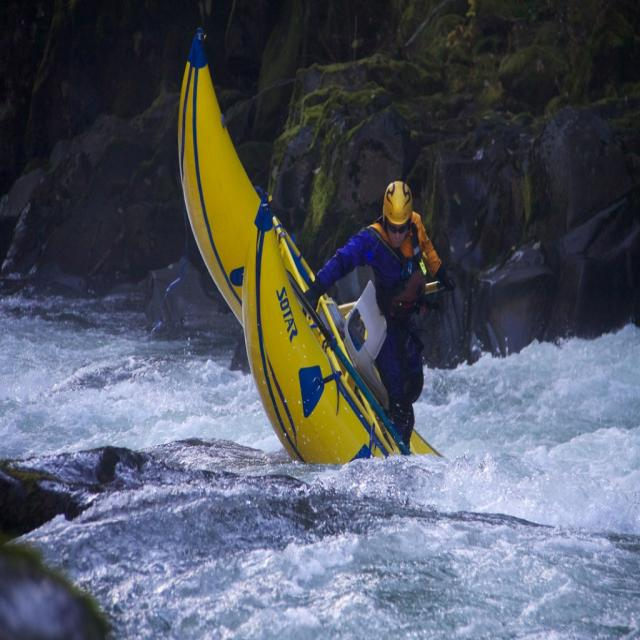Boat: (175, 26, 450, 466), (255, 193, 403, 460)
